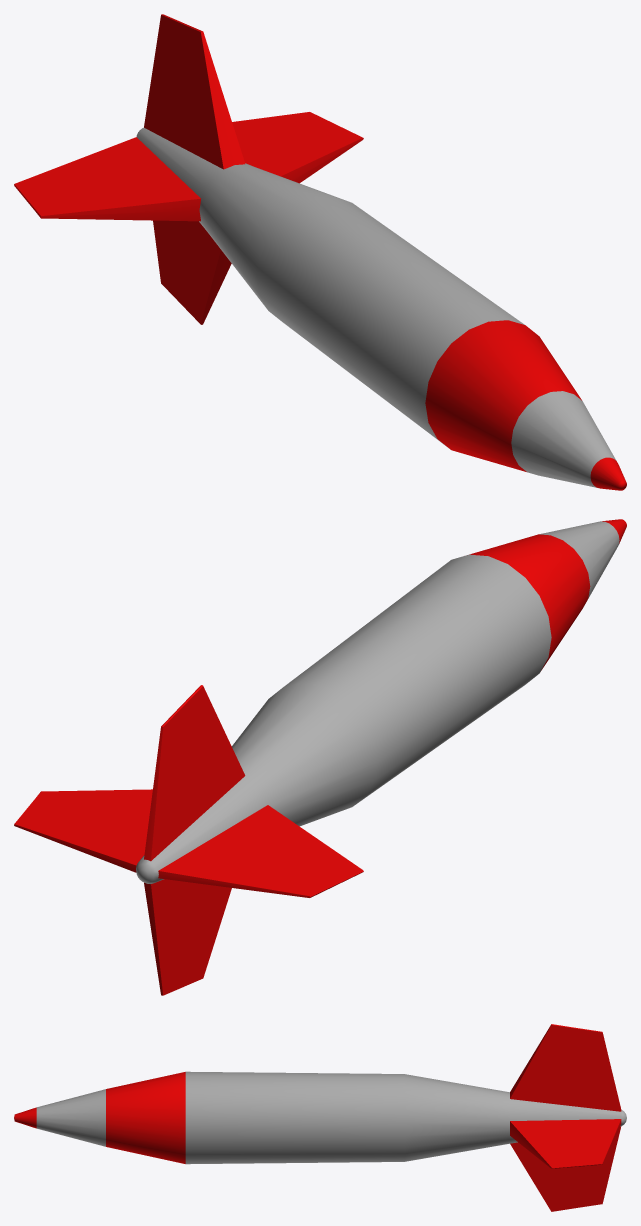
File: Missile.fbx
3 renders of one model, top to bottom at view 1: azimuth 30°, elevation 25°; view 2: azimuth 150°, elevation 25°; view 3: azimuth 270°, elevation 25°, orthographic. The views are drawn at different scales.
Parts seen in each view (by area): view 1: Missile; view 2: Missile; view 3: Missile.
Boxes of the visible parts, bbox=[...] form: Missile: bbox=[14, 14, 626, 490]; Missile: bbox=[14, 519, 626, 995]; Missile: bbox=[14, 1024, 626, 1211].
Bounding box in the file's own units: 0.3204 × 0.2782 × 0.8224.
